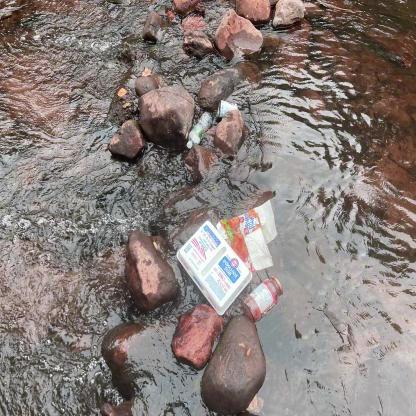Metal: (215, 98, 239, 120)
Plastic: (185, 107, 214, 152)
